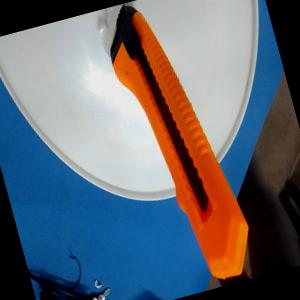estilete: (96, 0, 259, 293)
